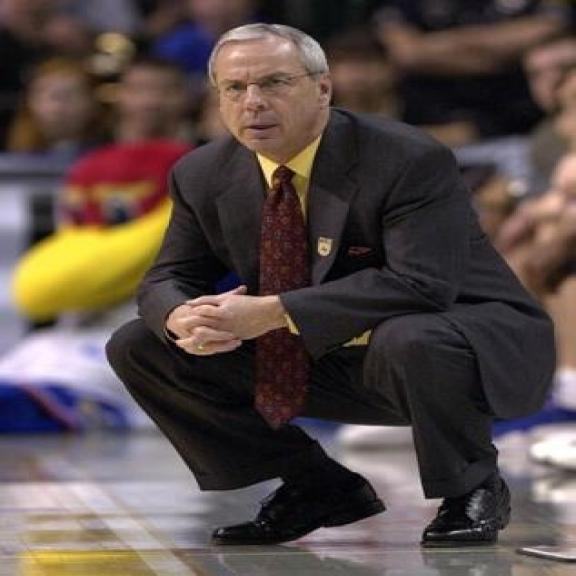face: (219, 42, 336, 153), (122, 62, 196, 137), (31, 69, 93, 132)
